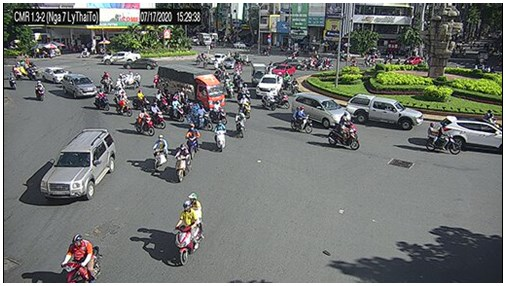xe_ban_tai: (103, 51, 142, 65)
xe_hoi: (40, 129, 115, 201), (345, 93, 422, 130), (439, 115, 504, 154), (292, 94, 350, 128), (63, 74, 97, 98), (255, 73, 283, 96), (41, 67, 69, 83), (122, 59, 159, 71), (273, 58, 304, 69), (271, 64, 296, 76), (404, 56, 425, 65), (220, 57, 235, 69)
xe_may: (175, 193, 206, 267), (63, 234, 100, 282), (425, 123, 459, 156), (327, 118, 359, 151), (173, 144, 191, 183), (190, 104, 212, 132), (134, 108, 155, 137), (290, 106, 311, 134), (153, 134, 167, 171), (148, 102, 166, 130), (113, 92, 133, 117), (186, 123, 199, 160), (154, 90, 173, 115), (93, 87, 111, 112), (215, 118, 227, 154), (169, 96, 183, 123), (132, 89, 150, 109), (234, 109, 246, 139), (261, 89, 277, 111), (238, 95, 251, 119), (101, 69, 114, 92), (34, 79, 46, 101), (223, 79, 234, 100), (277, 88, 288, 108), (27, 63, 38, 81), (11, 64, 22, 81), (115, 73, 125, 91), (291, 78, 300, 96), (283, 71, 291, 91), (8, 72, 16, 89)
xe_tai: (158, 63, 225, 108)
